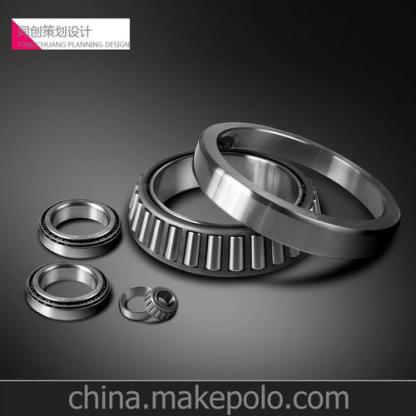FOD: (23, 260, 113, 322), (34, 196, 122, 257)
